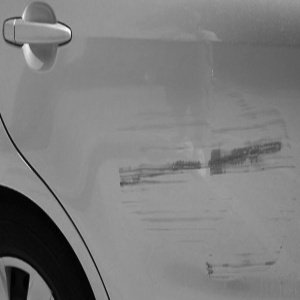door_scratch: (99, 50, 300, 276)
